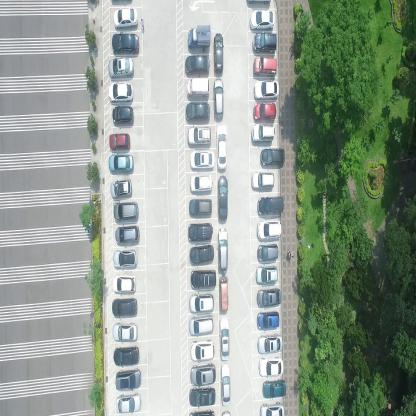car: (189, 338, 215, 363), (189, 363, 215, 388), (111, 32, 139, 55), (111, 345, 139, 368), (187, 292, 214, 315), (110, 321, 138, 343), (187, 25, 211, 50), (115, 391, 142, 413), (216, 227, 228, 276), (190, 268, 215, 291), (113, 224, 138, 247), (257, 194, 283, 216), (188, 149, 214, 171), (188, 244, 214, 266), (113, 7, 139, 29), (112, 201, 138, 223), (111, 249, 137, 271), (111, 298, 137, 320), (114, 368, 141, 389), (188, 388, 216, 408), (258, 356, 283, 378), (256, 219, 282, 240), (256, 332, 282, 353), (184, 55, 210, 76), (107, 57, 133, 78), (218, 317, 230, 362), (106, 82, 133, 102), (107, 154, 134, 174), (219, 363, 231, 408), (216, 173, 227, 222), (187, 126, 211, 148), (188, 174, 212, 196), (250, 9, 275, 30), (254, 79, 279, 100), (260, 146, 285, 167), (187, 222, 212, 243), (261, 379, 286, 400), (188, 316, 214, 336), (216, 124, 227, 171), (186, 78, 209, 100), (109, 178, 131, 201), (253, 101, 277, 122), (251, 170, 275, 191), (111, 274, 135, 295), (213, 30, 224, 75), (253, 32, 277, 52), (254, 56, 278, 76), (188, 198, 212, 218), (110, 106, 134, 126), (250, 124, 275, 143), (256, 288, 281, 307), (185, 102, 210, 121), (256, 309, 279, 329), (213, 79, 224, 120), (256, 242, 278, 262), (255, 265, 277, 285), (107, 133, 130, 151), (218, 275, 228, 314), (260, 402, 285, 416)
